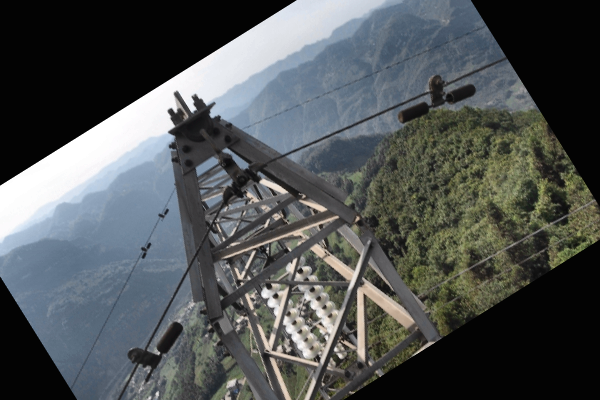damper: (394, 72, 477, 126), (139, 239, 151, 260)
damper_defect: (125, 319, 185, 385), (156, 206, 169, 224)
